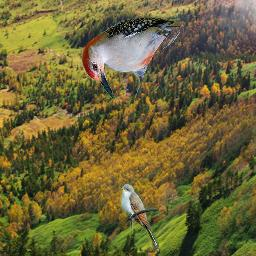Cuckoo: (121, 184, 160, 253)
Woodpecker: (82, 16, 180, 98)
